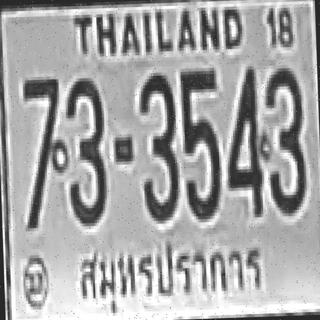N03: (63, 74, 106, 224), (262, 66, 305, 212), (138, 72, 179, 221)
N04: (222, 63, 263, 215)
N05: (178, 66, 221, 218)
N07: (20, 76, 61, 228)
P57: (72, 238, 272, 315)
